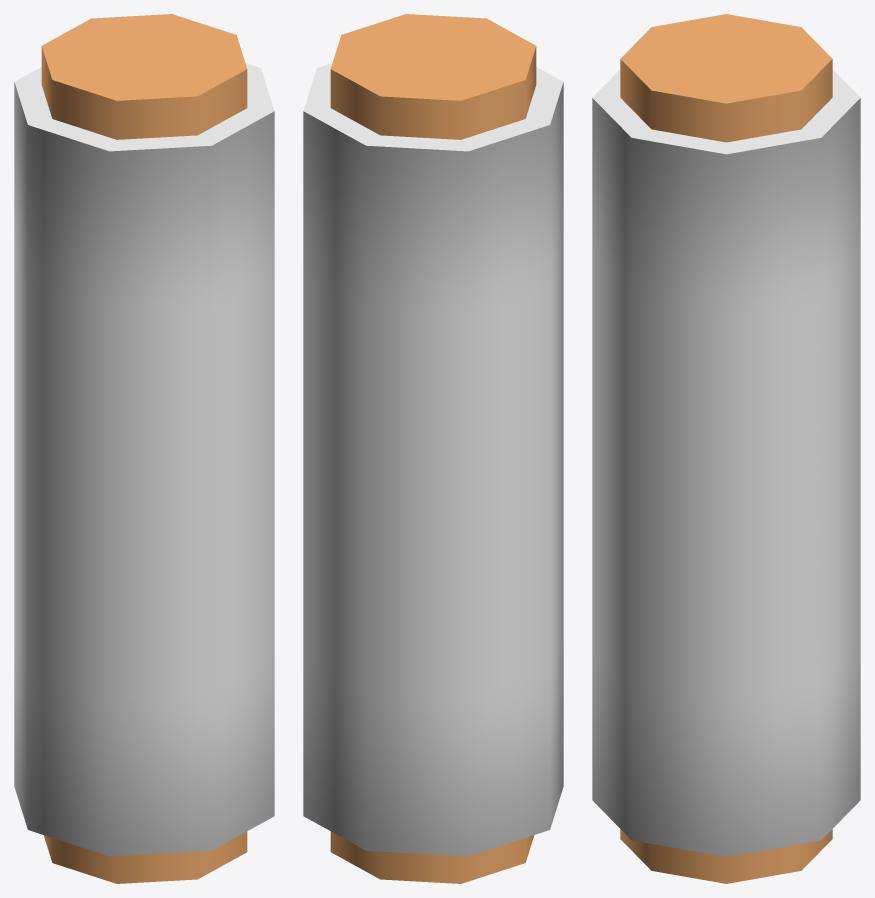
File: spool-7.fbx
The picture shows the model from 3 angles, left to right: view 1: azimuth 30°, elevation 25°; view 2: azimuth 150°, elevation 25°; view 3: azimuth 270°, elevation 25°; orthographic projection.
Visible parts, largest first — view 1: spool-7; view 2: spool-7; view 3: spool-7.
Part boxes in pixels (x1,y1,x2,y2): spool-7: (14, 14, 274, 883); spool-7: (303, 14, 563, 883); spool-7: (592, 14, 860, 883).
Bounding box in the file's own units: 4.87 × 15.63 × 4.87.
Materials: 2 (2 with a texture image).
